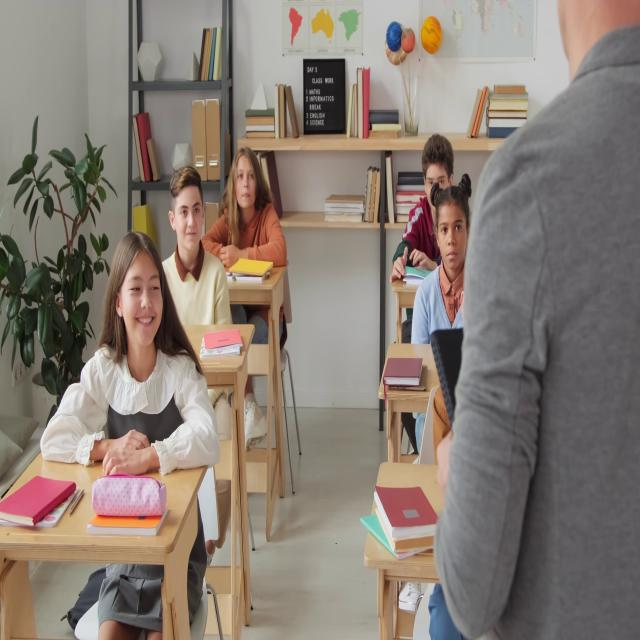listening: (40, 233, 221, 636), (206, 148, 290, 442), (410, 181, 469, 465), (162, 166, 235, 374), (388, 136, 459, 287)
